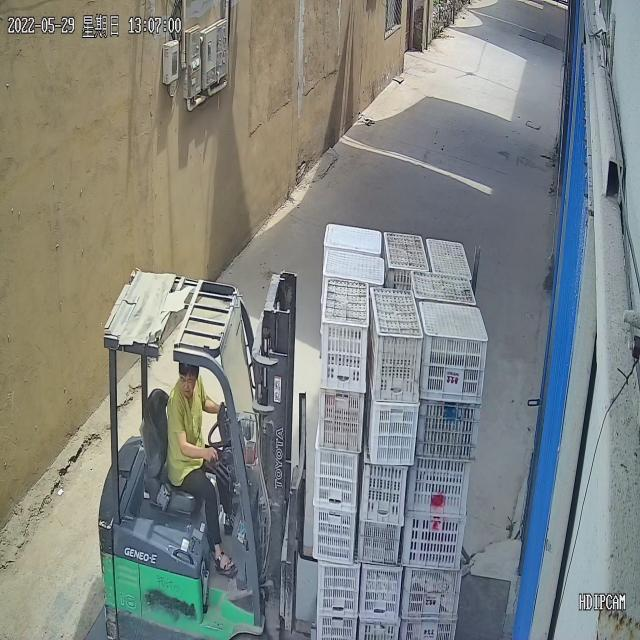forklift: (100, 273, 300, 637)
